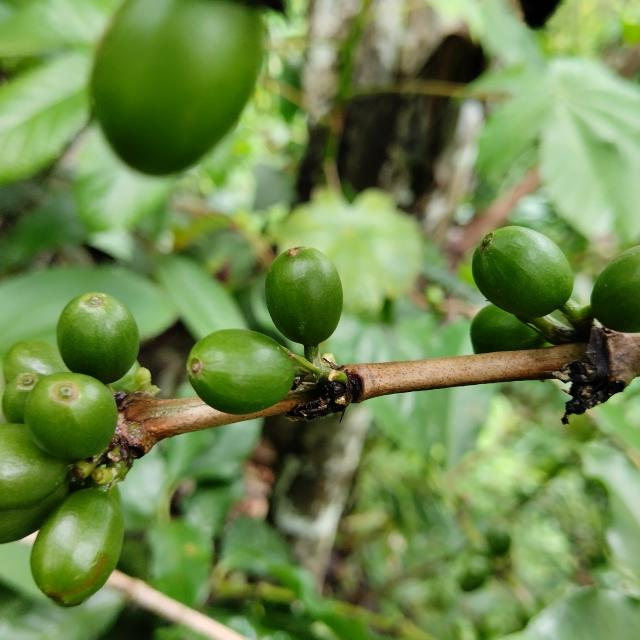green: (29, 489, 123, 608), (473, 226, 575, 318), (186, 329, 295, 415), (24, 373, 117, 461), (265, 246, 343, 346), (56, 292, 139, 384), (0, 424, 67, 511), (0, 481, 68, 545), (592, 245, 640, 333), (471, 304, 546, 354), (2, 340, 68, 383), (1, 373, 43, 424)
